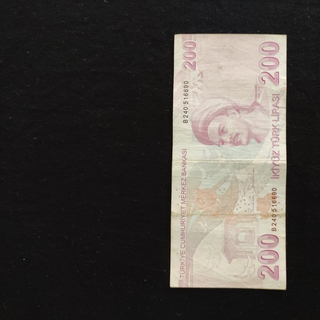200TLBack: (169, 33, 288, 290)
